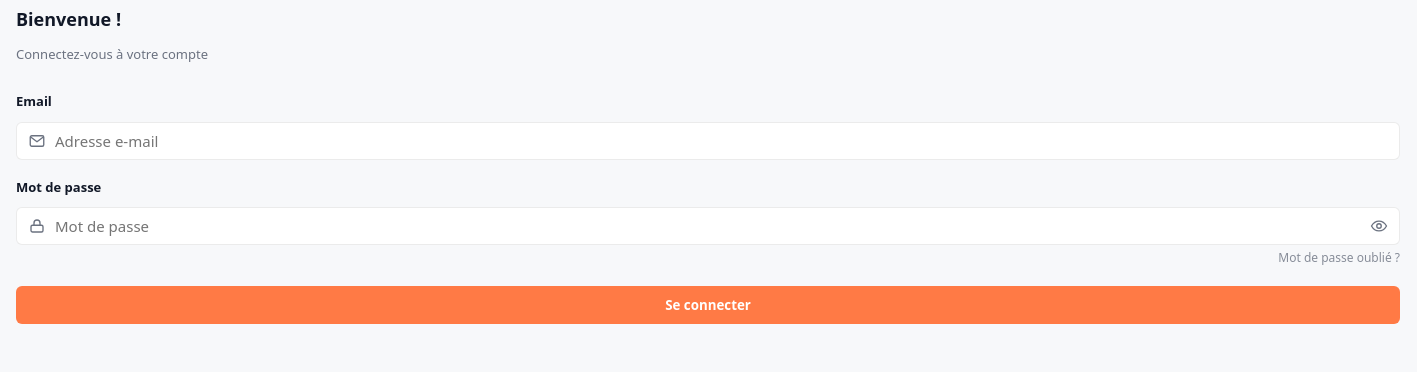
LoginPage › affiche une erreur si la connexion échoue
Step 1. Type "user@example.com" into the field labelled "Email" → (708, 141), box [16,122,1400,160]
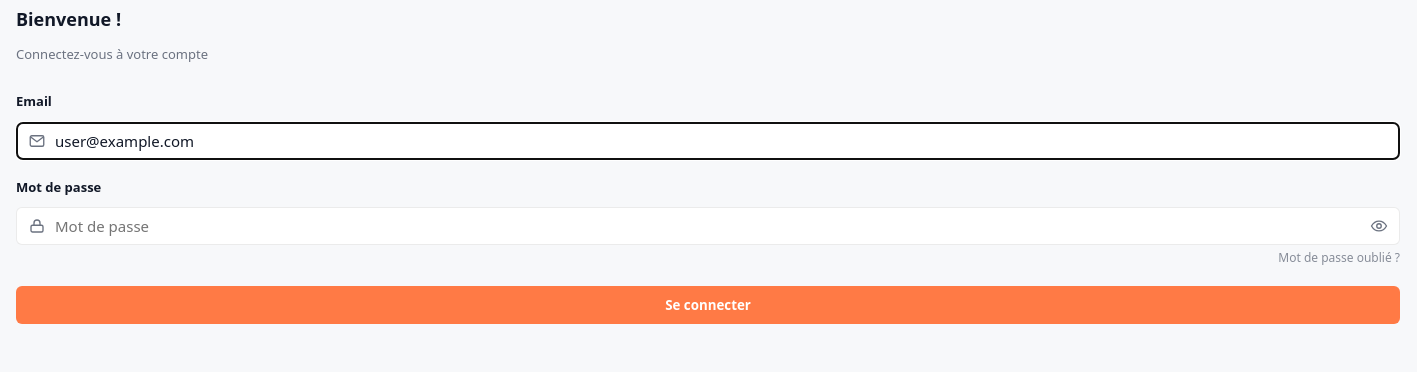
Step 2. Type "mauvais" into the password field labelled "Mot de passe" → (708, 226), box [16,207,1400,245]
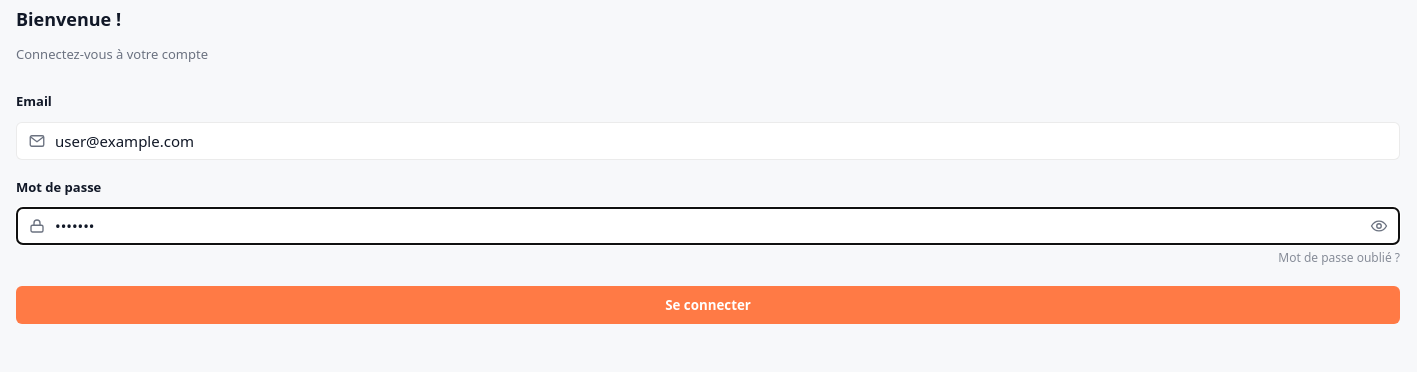
Step 3. Click the button "Se connecter" → (708, 305), box [16,286,1400,324]
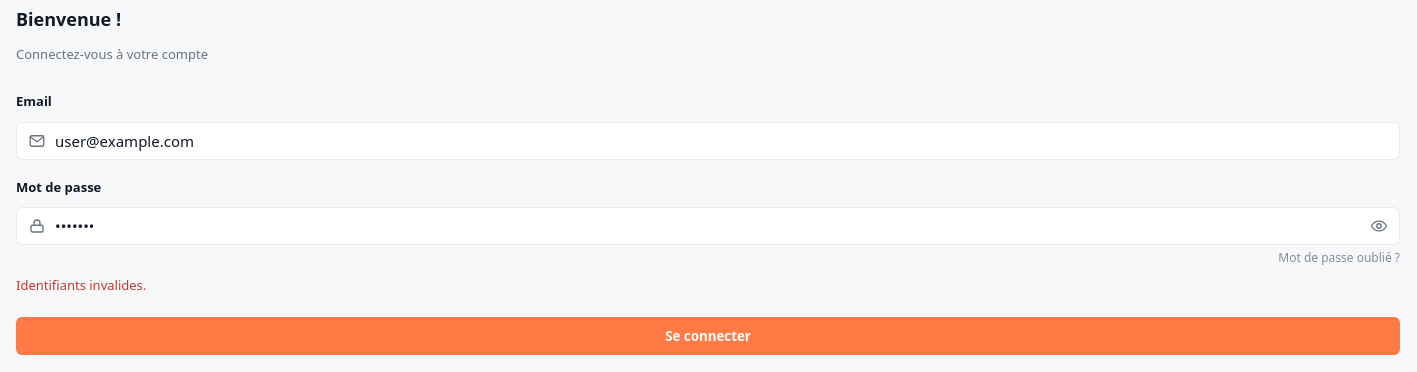
Expected: the text "Identifiants invalides." is shown, [16,276,146,294]
